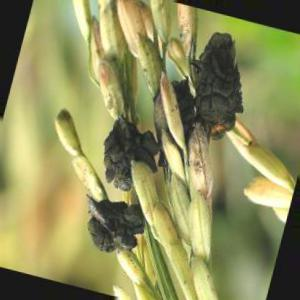False Smut: (194, 26, 246, 147), (82, 205, 143, 255), (101, 138, 139, 195)
